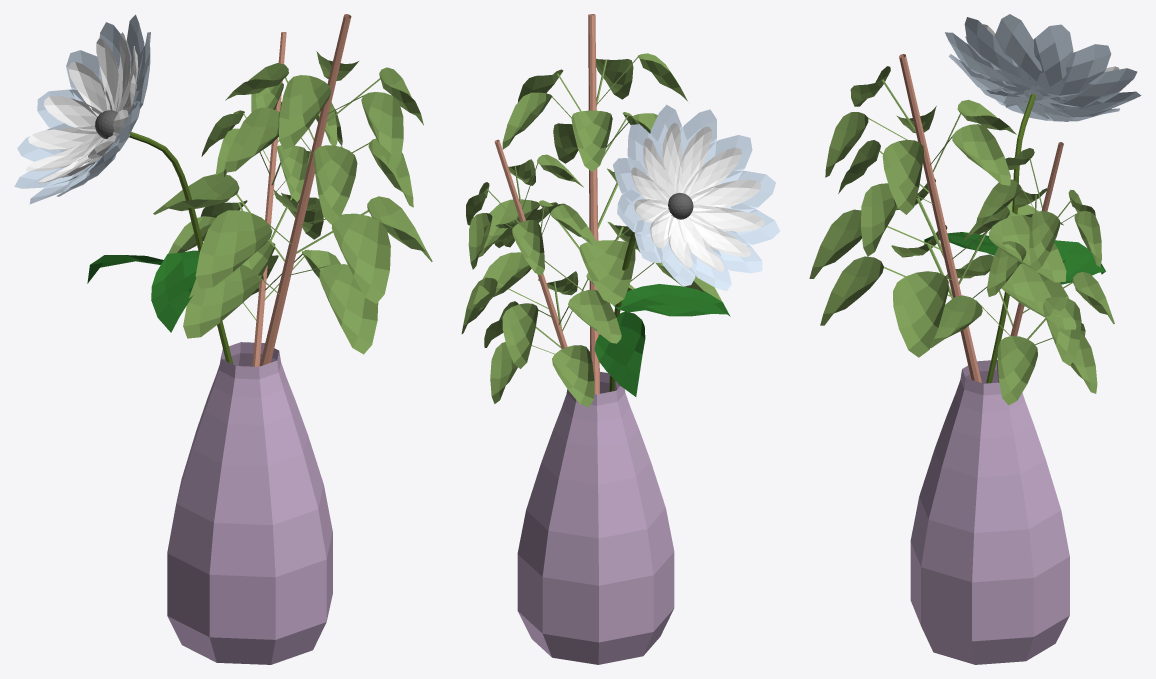
The model's file is flowers.glb.
3 renders of one model, left to right at view 1: azimuth 30°, elevation 25°; view 2: azimuth 150°, elevation 25°; view 3: azimuth 270°, elevation 25°, orthographic. The views are drawn at different scales.
Visible parts, largest first — view 1: Vase, stick_leaves_one.006, stick_leaves_one.008, flower_leaves, stick_plant_1_stem, stick_leaves_one.003, stick_leaves_one.001, stick_leaves_one, stick_leaves_one.010, stick_leaves_one.015, stick_leaves_one.011, stick_leaves_one.004 (+21 smaller); view 2: Vase, flower_leaves, stick_leaves_one.004, stick_plant_1_stem, stick_leaves.009, stick_leaves_one.012, stick_leaves.015, stick_leaves.014, stick_leaves_one.002, Inner Petals.011, Inner Petals.010, Inner Petals.012 (+39 smaller); view 3: Vase, stick_leaves_one.005, stick_plant_1_stem, stick_leaves_one.014, stick_leaves_one.002, stick_leaves_one.007, stick_leaves.011, stick_leaves_one.003, stick_leaves_one.013, Outer Petals.005, Outer Petals.006, Outer Petals.001 (+25 smaller).
Part boxes in pixels (x1,y1,x2,y2): Vase: (167,342,332,664); stick_leaves_one.006: (195,210,291,288); stick_leaves_one.008: (300,213,390,303); flower_leaves: (87,250,199,332); stick_plant_1_stem: (259,14,351,366); stick_leaves_one.003: (288,264,378,354); stick_leaves_one.001: (183,264,279,338); stick_leaves_one: (278,75,331,149); stick_leaves_one.010: (313,145,357,224); stick_leaves_one.015: (327,92,403,169); stick_leaves_one.011: (226,107,312,172); stick_leaves_one.004: (153,174,284,261); Vase: (517,372,674,664); flower_leaves: (594,284,730,396); stick_leaves_one.004: (579,240,635,305); stick_plant_1_stem: (588,14,599,394); stick_leaves.009: (552,345,594,407); stick_leaves_one.012: (571,110,612,171); stick_leaves.015: (502,303,553,368); stick_leaves.014: (558,289,621,343); stick_leaves_one.002: (473,252,583,310); Inner Petals.011: (690,179,761,211); Inner Petals.010: (683,147,741,202); Inner Petals.012: (688,204,764,231); Vase: (910,360,1069,664); stick_leaves_one.005: (893,271,952,357); stick_plant_1_stem: (899,54,981,382); stick_leaves_one.014: (882,140,924,214); stick_leaves_one.002: (972,263,1076,329); stick_leaves_one.007: (951,215,1066,282); stick_leaves.011: (997,336,1037,405); stick_leaves_one.003: (820,256,952,325); stick_leaves_one.013: (930,124,1010,185); Outer Petals.005: (1029,44,1111,99); Outer Petals.006: (1025,24,1073,96); Outer Petals.001: (995,14,1041,94).
Size of the model in its own units: 2.35 by 4.15 by 2.07.
